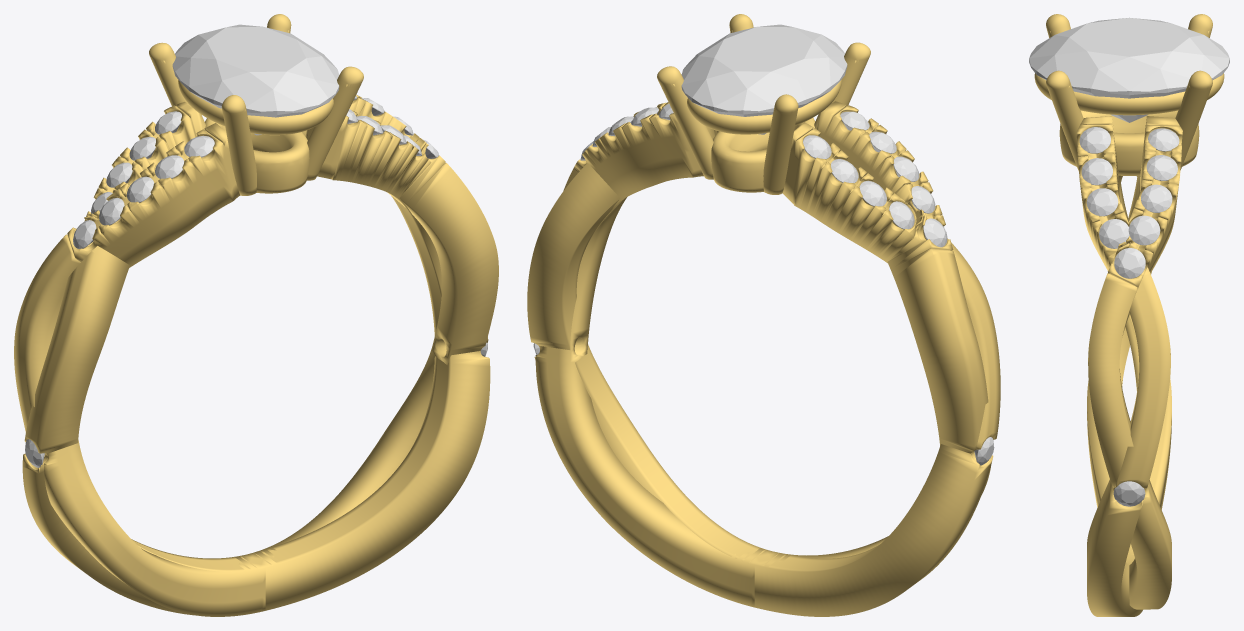
The model's file is diamond-oval-yellowgold-4prong-twist-sidestones.glb.
3 views of the same model, side by side, from view 1: azimuth 30°, elevation 25°; view 2: azimuth 150°, elevation 25°; view 3: azimuth 270°, elevation 25° (orthographic).
Parts seen in each view (by area): view 1: metal, stone; view 2: metal, stone; view 3: metal, stone, Twist shank diamonds.015, Twist shank diamonds.016, Twist shank diamonds.017, Twist shank diamonds.012, Twist shank diamonds.011, Twist shank diamonds.013, Twist shank diamonds.014, Twist shank diamonds.018, Twist shank diamonds.010, Twist shank diamonds.019.
Part boxes in pixels (left/top/right/bottom): metal: left=14, top=14, right=498, bottom=616; stone: left=172, top=24, right=339, bottom=135; metal: left=527, top=14, right=1000, bottom=616; stone: left=681, top=24, right=847, bottom=134; metal: left=1034, top=14, right=1224, bottom=616; stone: left=1029, top=17, right=1229, bottom=122; Twist shank diamonds.015: left=1114, top=248, right=1145, bottom=278; Twist shank diamonds.016: left=1128, top=215, right=1160, bottom=245; Twist shank diamonds.017: left=1141, top=184, right=1172, bottom=212; Twist shank diamonds.012: left=1086, top=188, right=1118, bottom=216; Twist shank diamonds.011: left=1099, top=219, right=1129, bottom=248; Twist shank diamonds.013: left=1081, top=158, right=1112, bottom=185; Twist shank diamonds.014: left=1079, top=127, right=1110, bottom=153; Twist shank diamonds.018: left=1146, top=155, right=1177, bottom=180; Twist shank diamonds.010: left=1113, top=481, right=1145, bottom=506; Twist shank diamonds.019: left=1148, top=128, right=1179, bottom=151.
Size of the model in its own units: 19.97 by 23.2 by 7.64.
